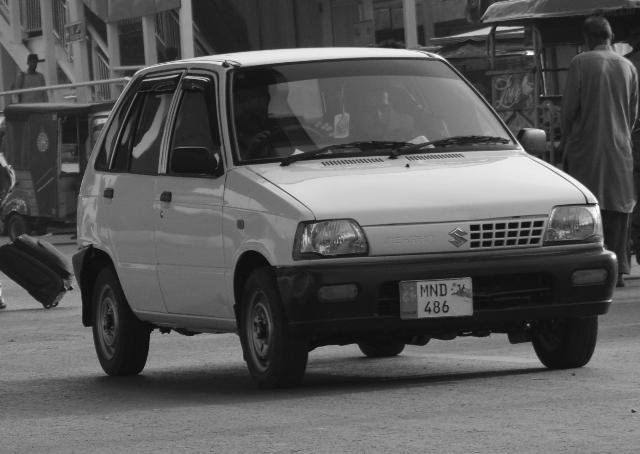Number: (416, 282, 454, 314)
